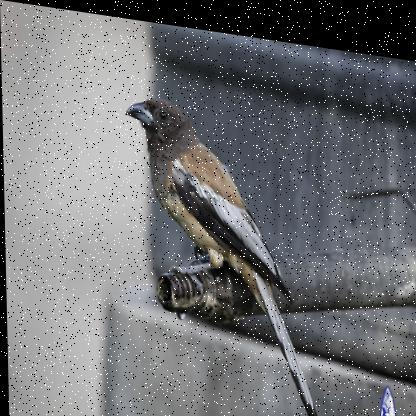Burung: (123, 88, 325, 415)
